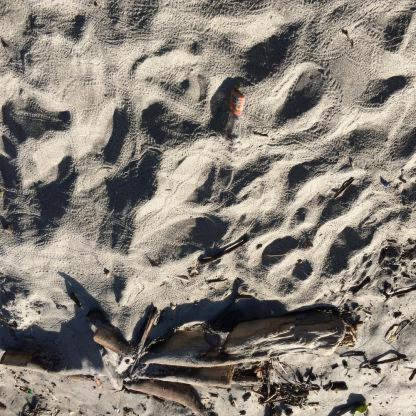Bottle cap: (225, 80, 245, 148)
